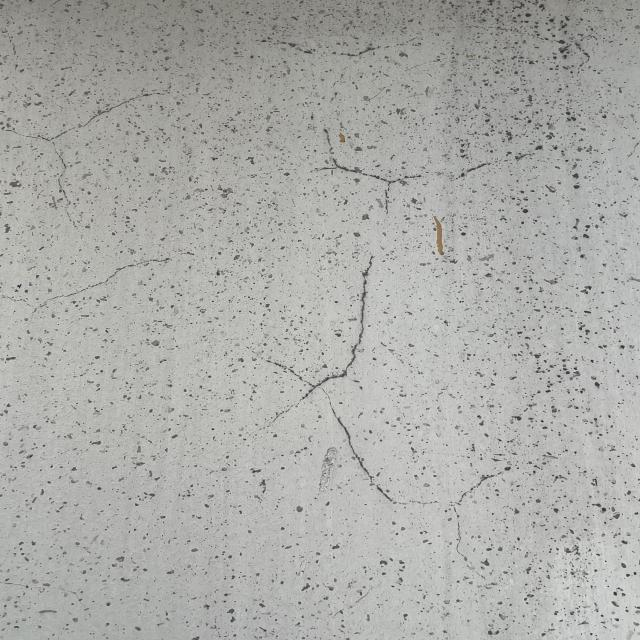crack: (242, 238, 468, 518), (7, 83, 192, 228)
